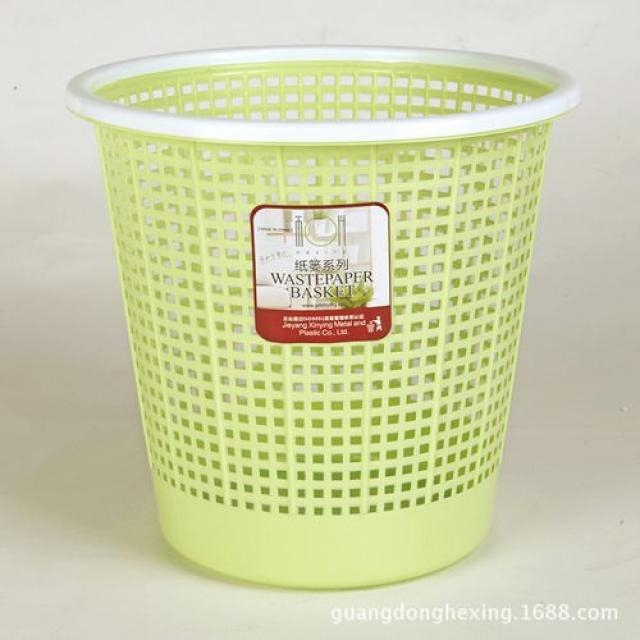dustbin: (54, 35, 589, 596)
